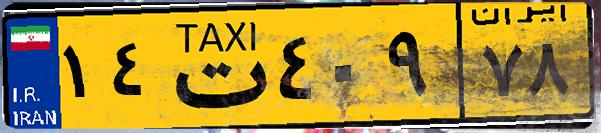0: (330, 28, 385, 110)
1: (57, 26, 110, 100)
4: (270, 28, 330, 110), (110, 28, 158, 98)
7: (475, 38, 525, 113)
8: (525, 38, 570, 115)
9: (385, 28, 445, 110)
ت: (158, 12, 270, 120)
